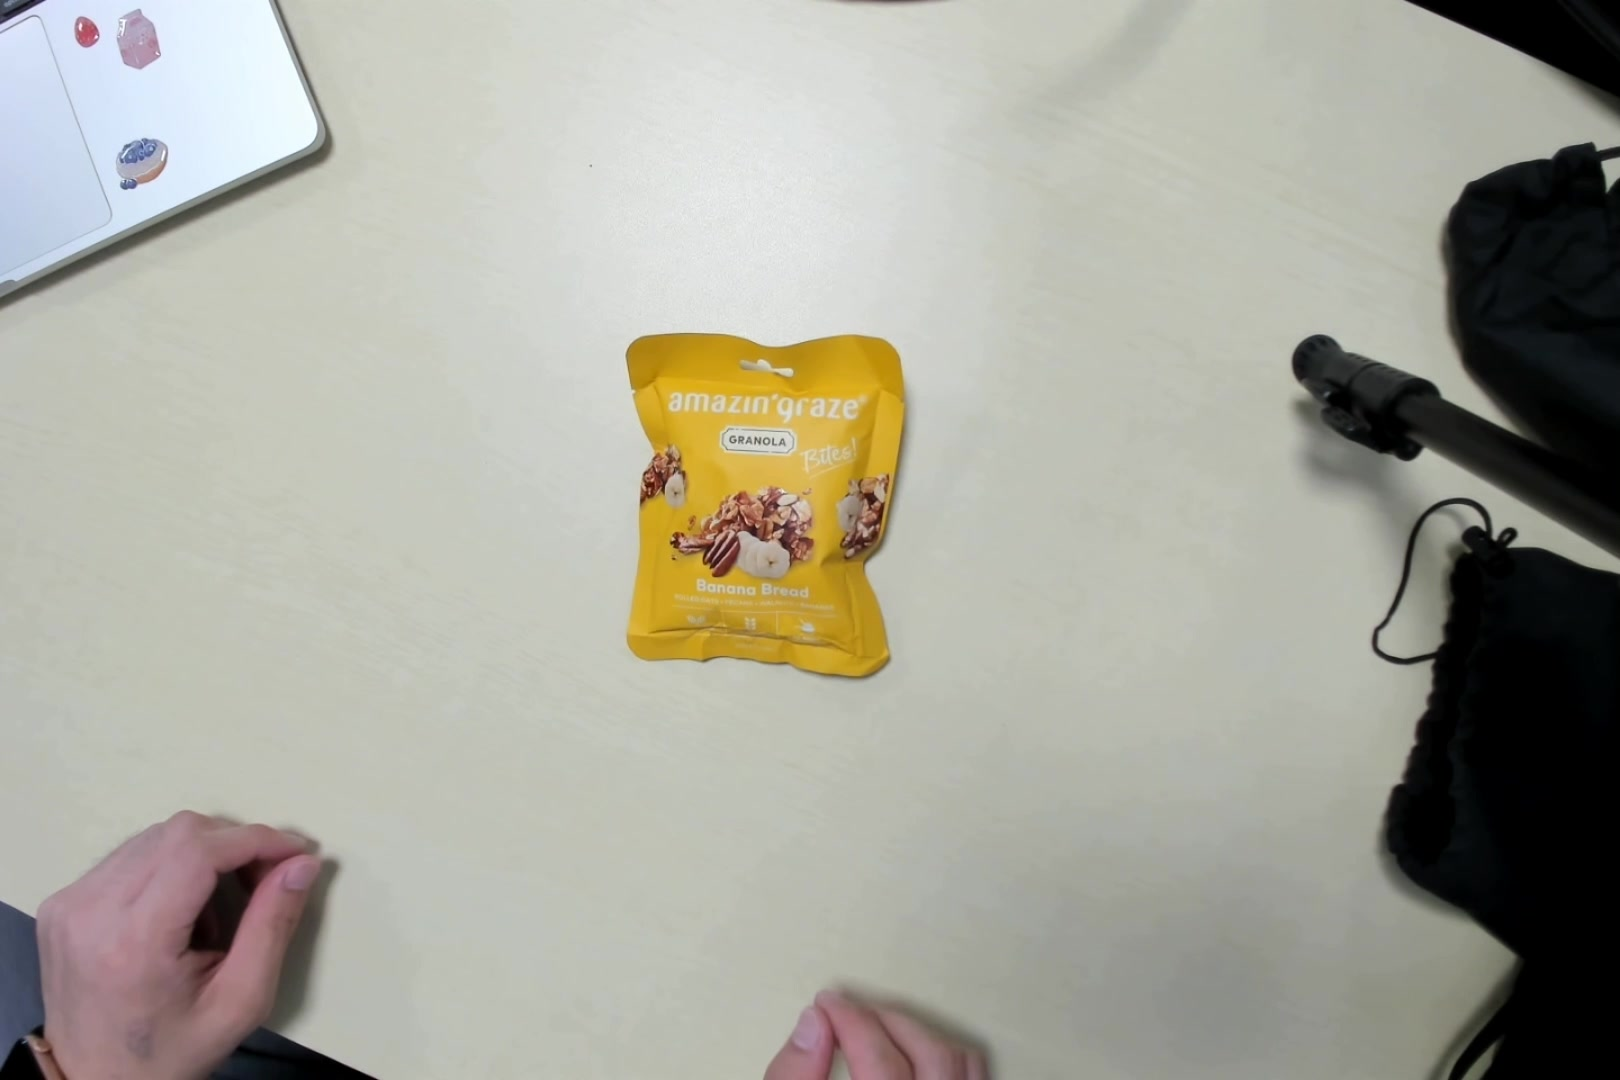BreakfastCereals_0-99g_NonHalal_NonHealthy: (630, 341, 877, 664)
